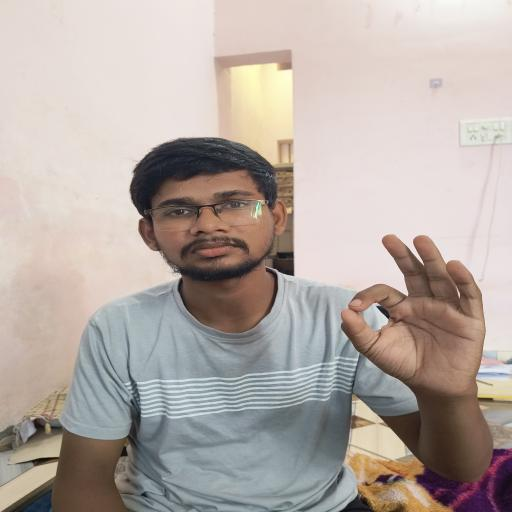Previous: (315, 225, 512, 417)
